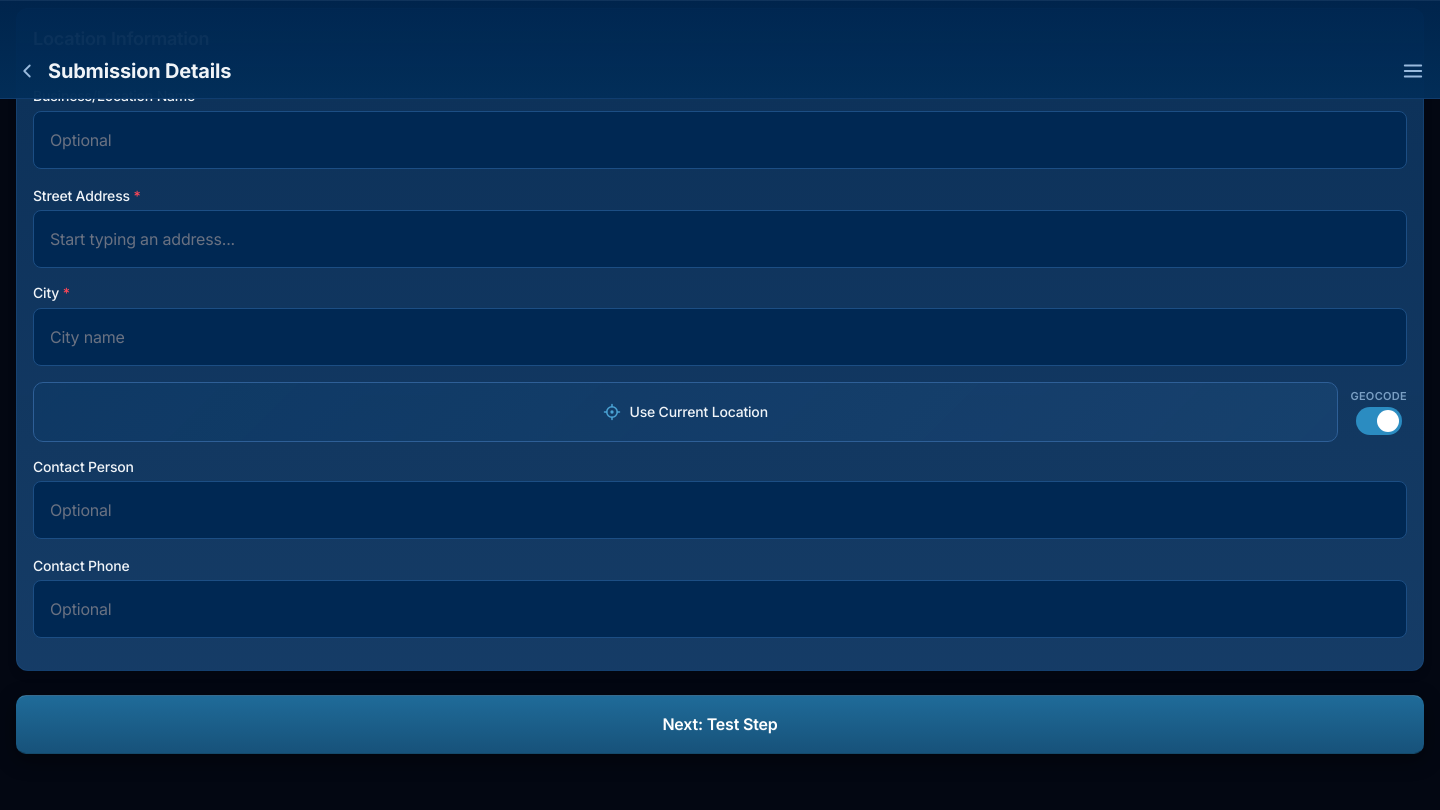
Scenario: Submission — GPS honest failure paths › states plainly that nothing was captured when the browser has no location service
(page scrolled)
Click the button "Use Current Location".
click(686, 412)  # box [33,382,1338,442]
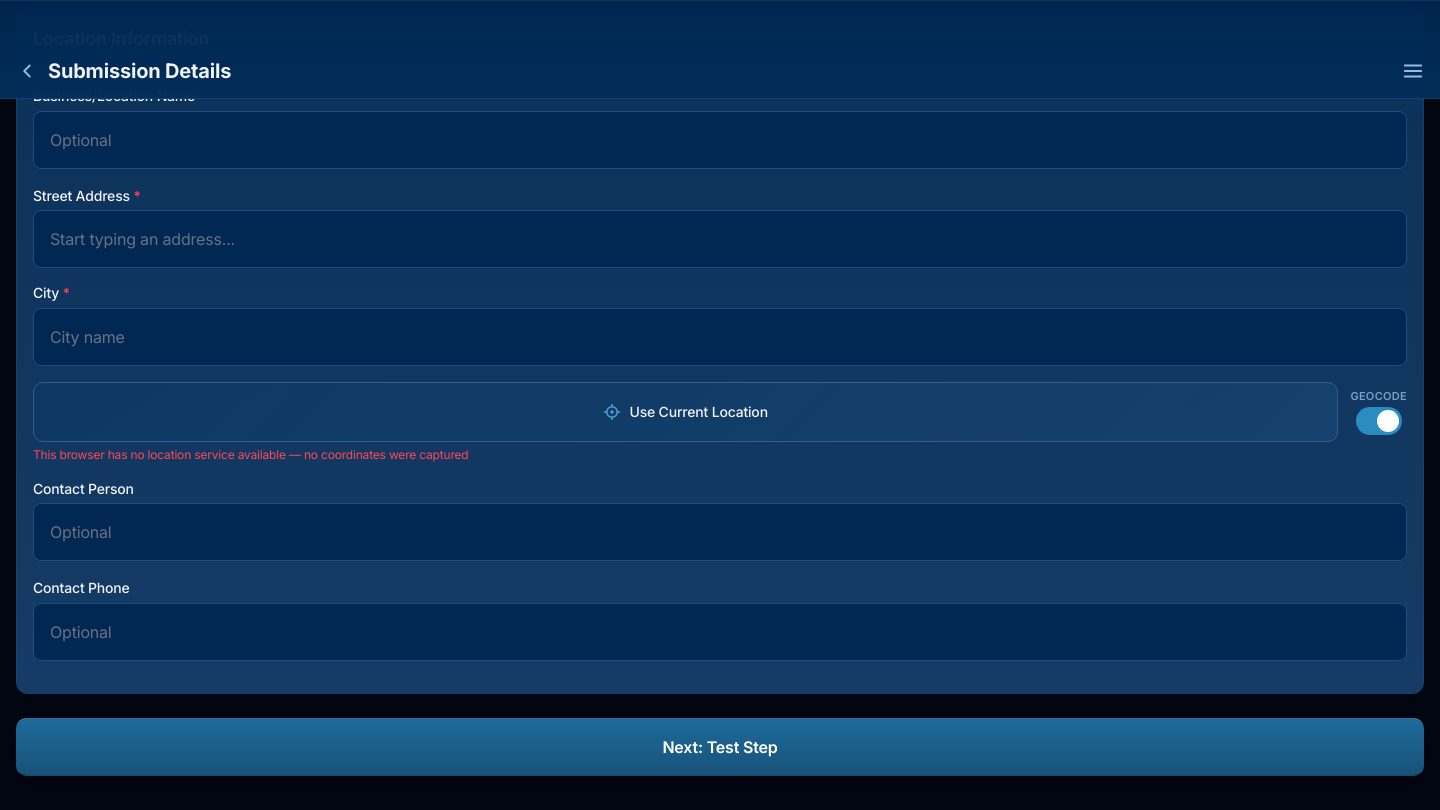
Expected: the message with test id "gps-capture-error" reads "This browser has no location service available — no coordinates were captured", [33,446,468,462]
